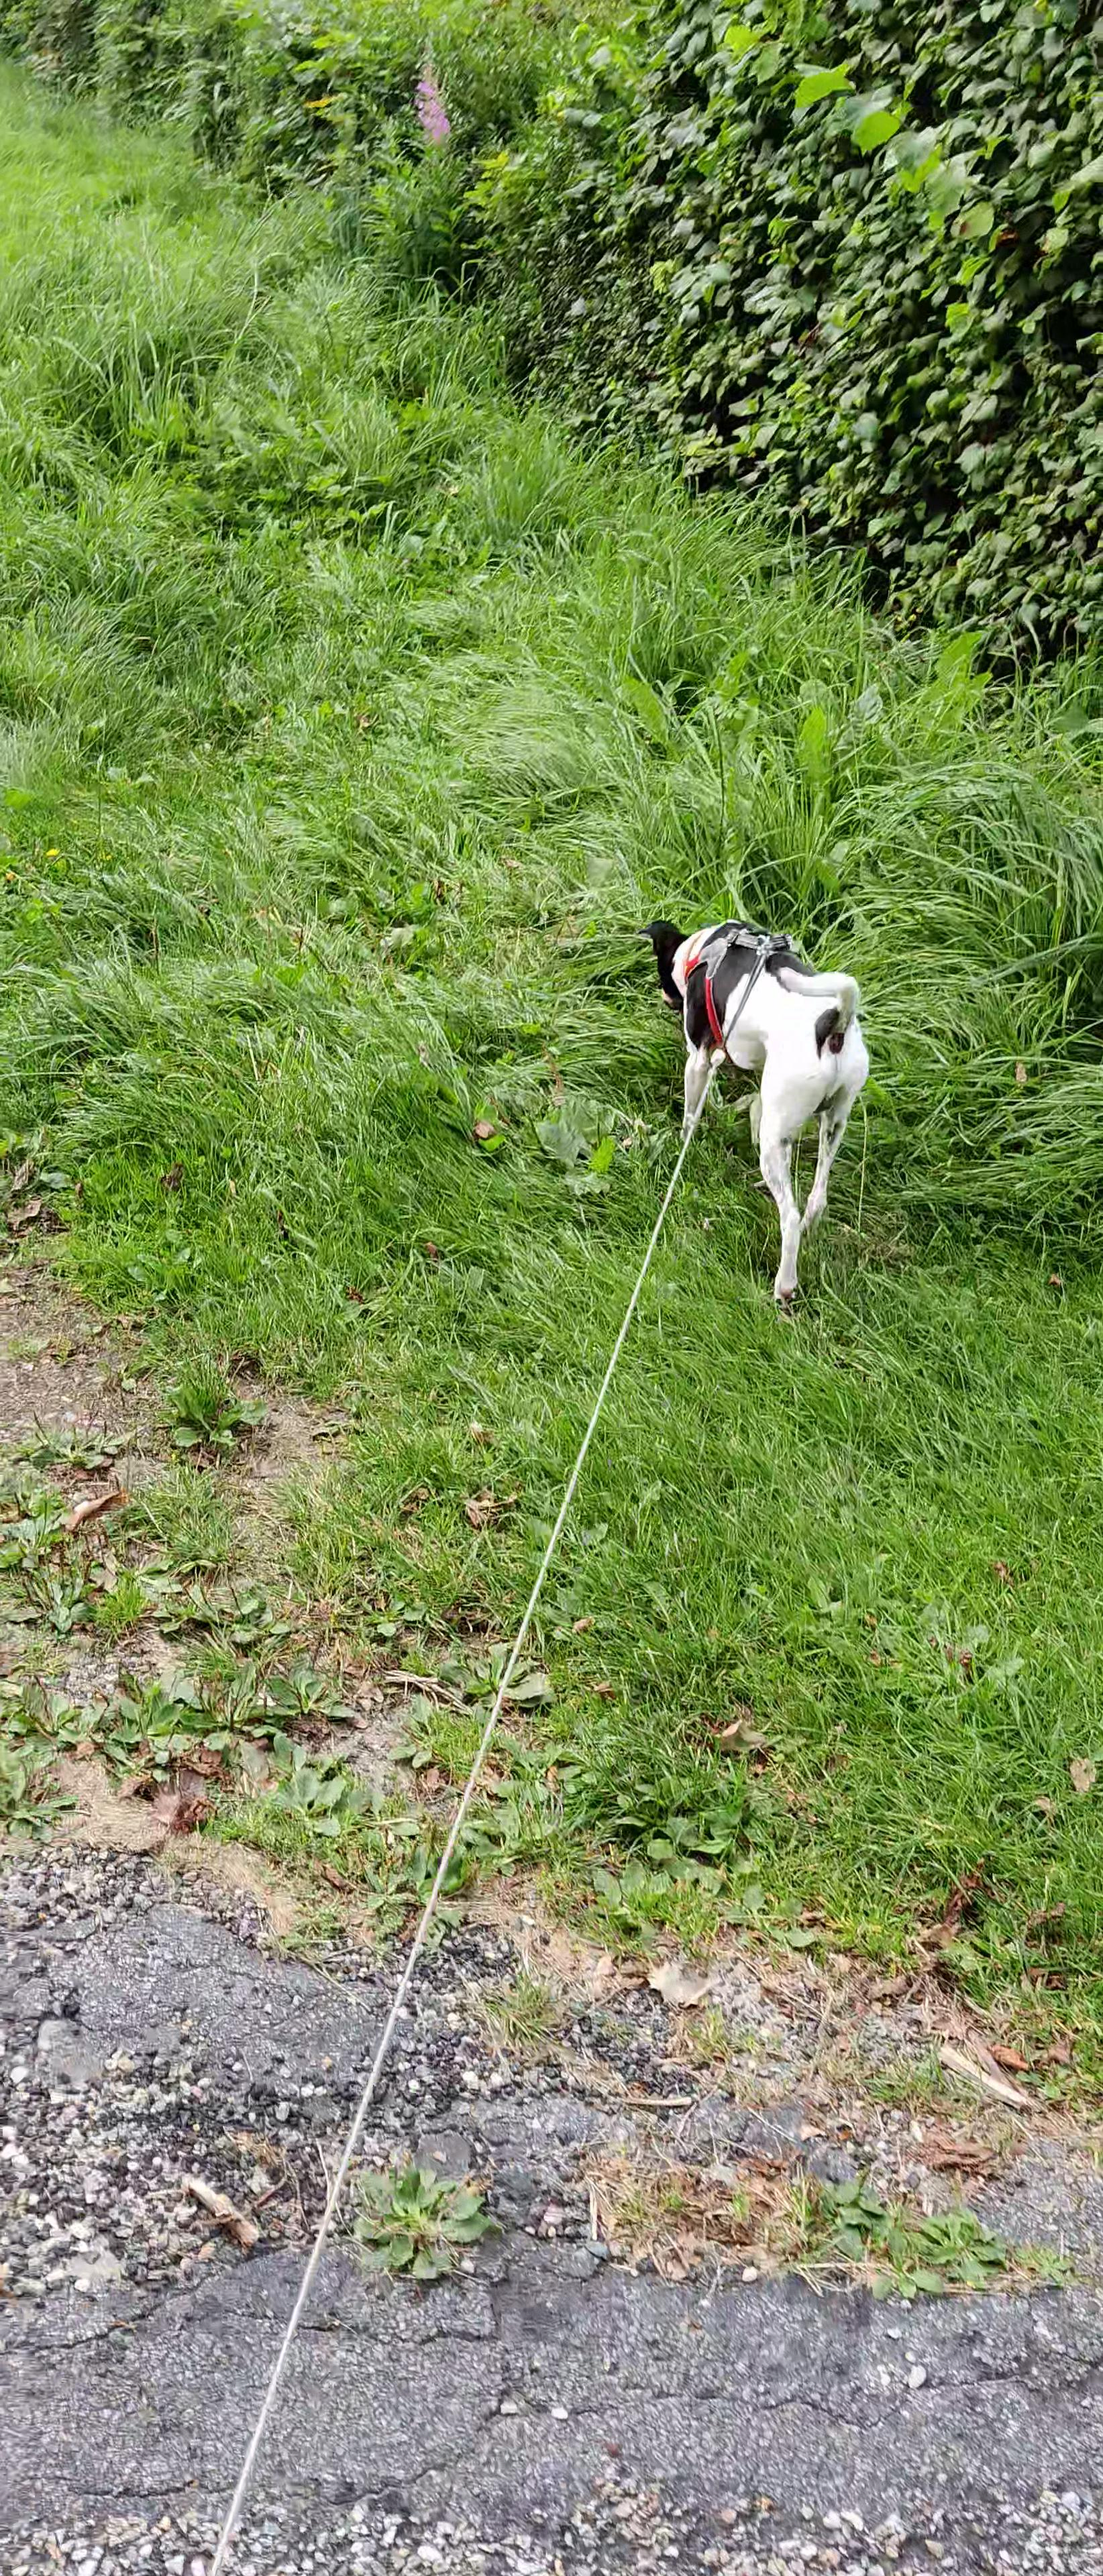Dog: (631, 894, 873, 1313)
